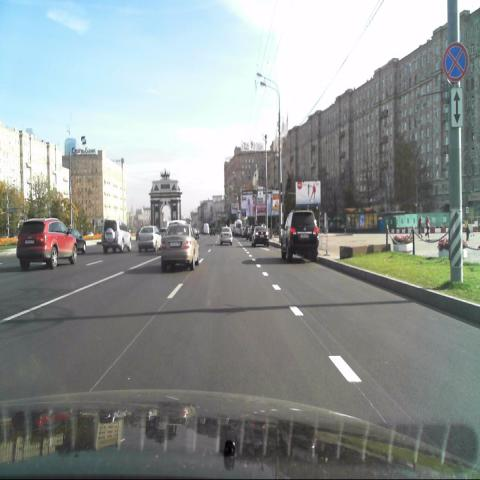8_2_4: (450, 89, 463, 130)
